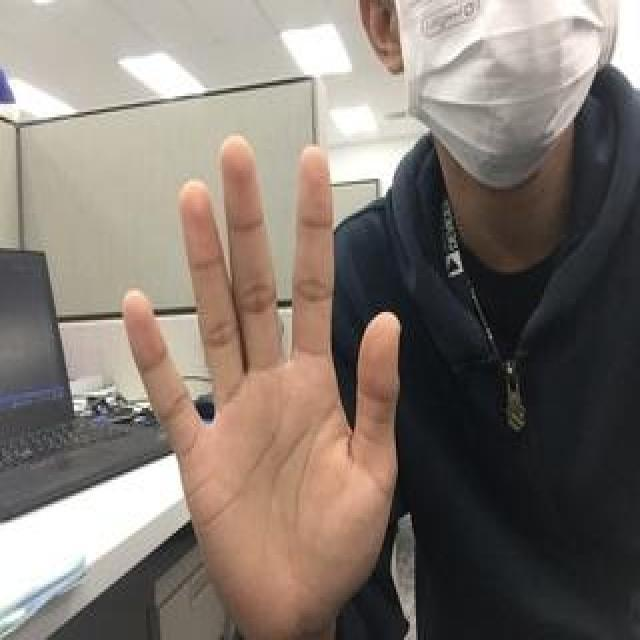no-gloves: (118, 133, 402, 640)
